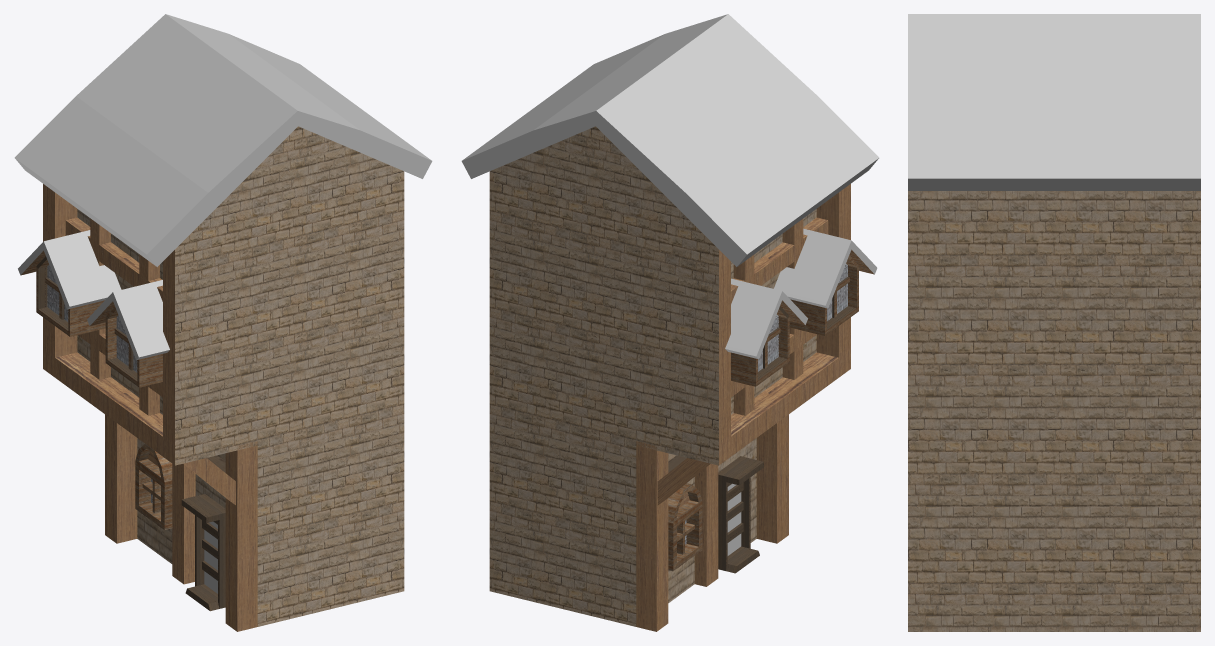
File: townhouse2_combined.fbx
The picture shows the model from 3 angles, left to right: view 1: azimuth 30°, elevation 25°; view 2: azimuth 150°, elevation 25°; view 3: azimuth 270°, elevation 25°; orthographic projection. The views are drawn at different scales.
Parts seen in each view (by area): view 1: pCube15; view 2: pCube15; view 3: pCube15.
Boxes of the visible parts, x1,y1,x2,y2 form: pCube15: (14,14,432,631); pCube15: (461,14,879,631); pCube15: (908,14,1200,631).
Bounding box in the file's own units: 37.79 × 63.36 × 30.
